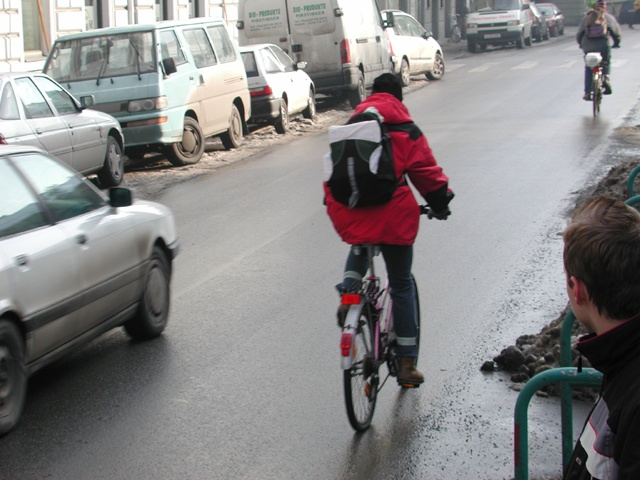person: (320, 76, 451, 396)
